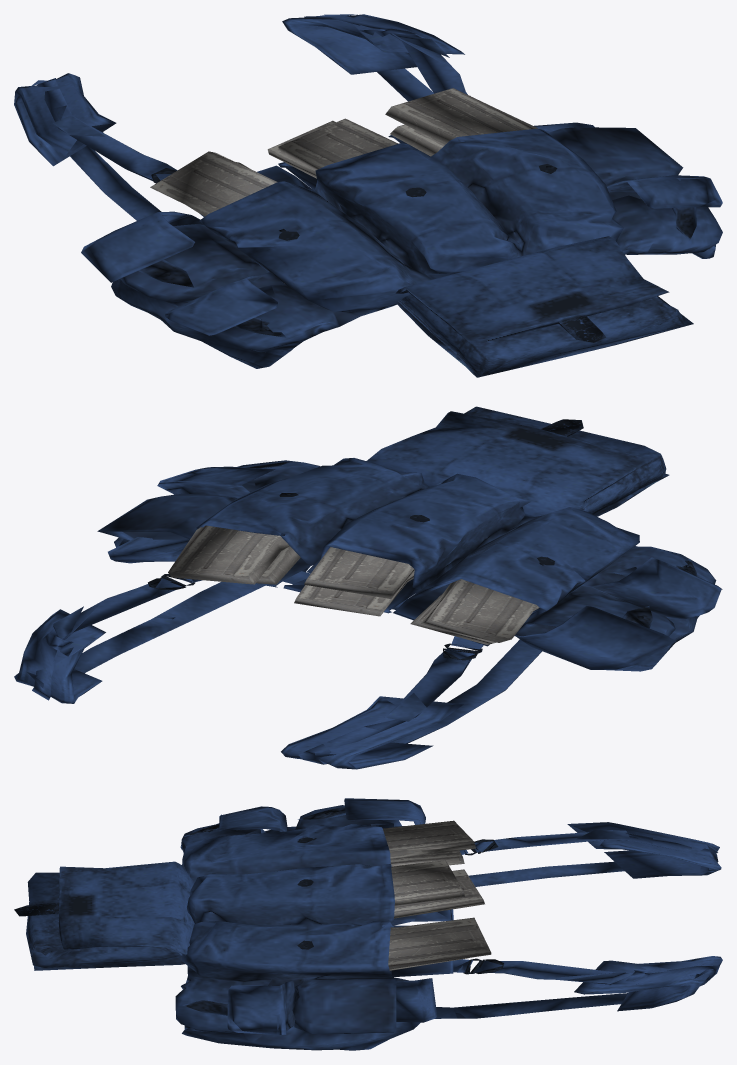
The model's file is ReconRig_Ground.fbx.
3 renders of one model, top to bottom at view 1: azimuth 30°, elevation 25°; view 2: azimuth 150°, elevation 25°; view 3: azimuth 270°, elevation 25°, orthographic. The views are drawn at different scales.
Visible parts, largest first — view 1: Waist Backbag.001; view 2: Waist Backbag.001; view 3: Waist Backbag.001.
Boxes of the visible parts, box(x1,y1,x2,y2) form: Waist Backbag.001: box(14, 14, 722, 377); Waist Backbag.001: box(14, 406, 722, 769); Waist Backbag.001: box(14, 798, 722, 1050).
Bounding box in the file's own units: 0.2275 × 0.0335 × 0.2916.
